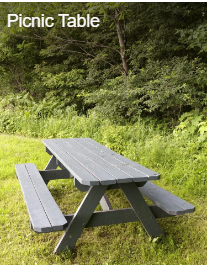obstacle: (14, 132, 194, 262)
